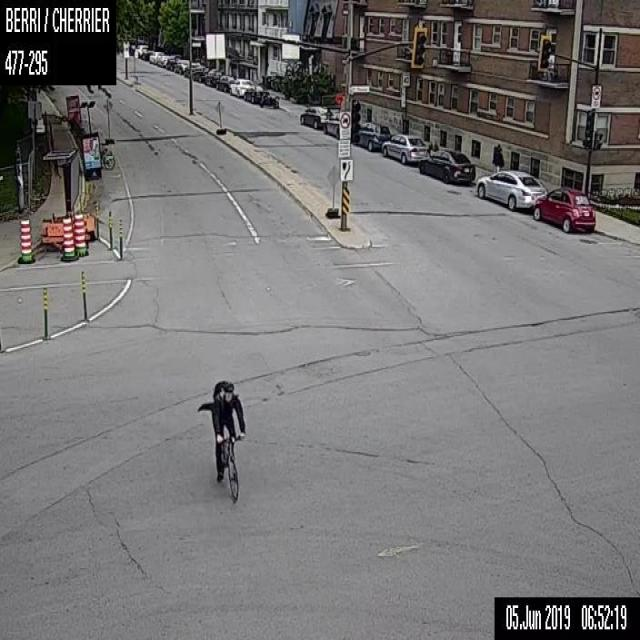construction: (43, 147, 96, 249), (326, 165, 339, 218), (102, 96, 114, 141), (20, 218, 31, 262), (62, 215, 73, 258), (74, 212, 84, 255), (213, 100, 224, 133), (81, 268, 87, 319), (118, 213, 123, 259), (44, 284, 48, 337), (108, 209, 112, 248)
cyclist: (197, 380, 244, 499)
vehicle: (533, 187, 595, 233), (476, 169, 547, 209), (418, 148, 475, 182), (381, 134, 428, 162), (352, 122, 391, 150), (298, 106, 332, 129), (243, 83, 269, 103), (228, 77, 254, 96), (322, 108, 338, 138), (215, 74, 235, 93), (203, 68, 222, 86), (258, 92, 278, 108), (183, 61, 201, 77), (192, 65, 208, 81), (165, 55, 180, 70), (174, 59, 188, 73), (148, 51, 164, 63), (157, 52, 170, 66), (137, 48, 153, 59)
